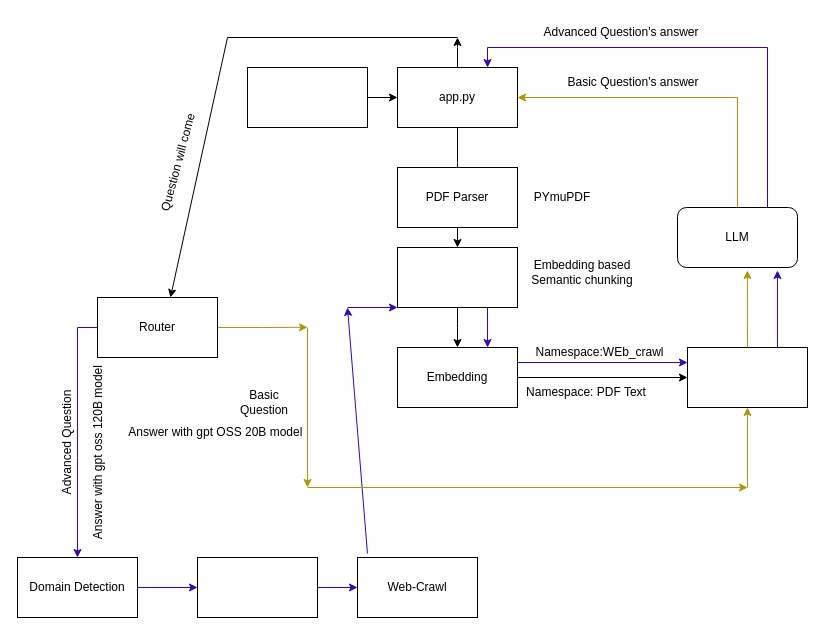
This 825x635 diagram has some shape labels left out. The centre of each missing label's shape, as x and y in pixels:
Chunking: point (457, 277)
Pinecone: point (747, 377)
Streamlit UI: point (307, 97)
SubTask Generation: point (257, 587)
